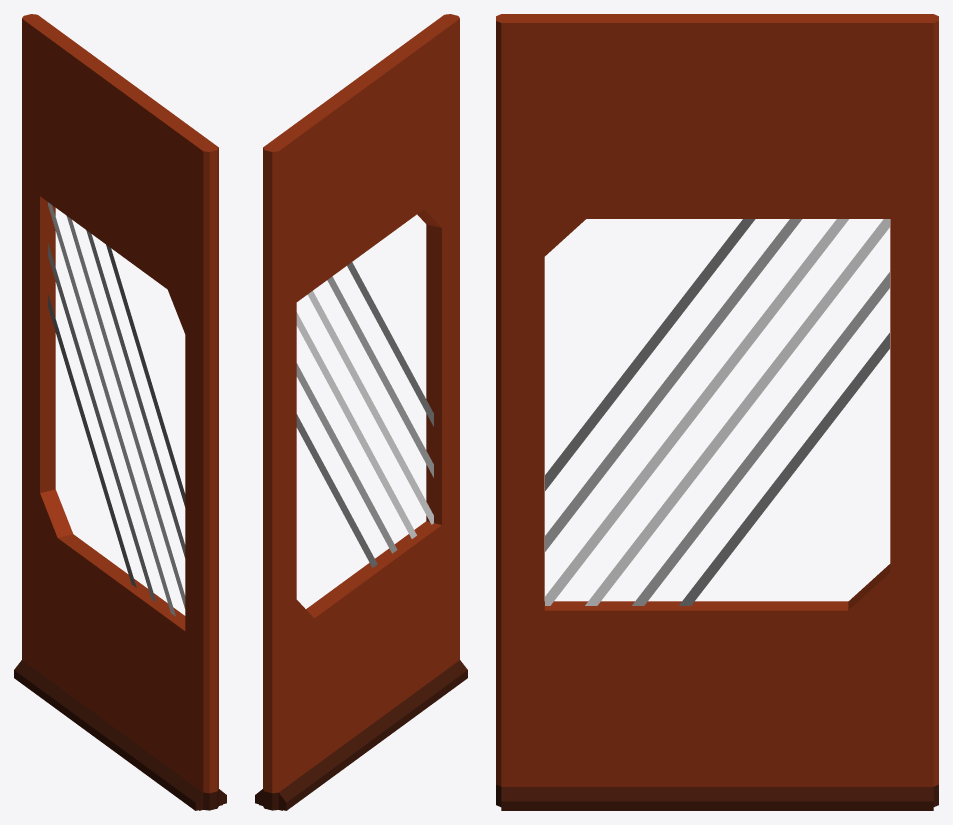
The model's file is Wall_1-5.fbx.
The picture shows the model from 3 angles, left to right: view 1: azimuth 30°, elevation 25°; view 2: azimuth 150°, elevation 25°; view 3: azimuth 270°, elevation 25°; orthographic projection. The views are drawn at different scales.
Visible parts, largest first — view 1: Wall_1-5, Wall_1-5.001; view 2: Wall_1-5, Wall_1-5.001; view 3: Wall_1-5, Wall_1-5.001.
Boxes of the visible parts, x1,y1,x2,y2 form: Wall_1-5: (14,14,226,810); Wall_1-5.001: (48,202,185,616); Wall_1-5: (255,14,467,810); Wall_1-5.001: (296,262,433,567); Wall_1-5: (496,14,938,810); Wall_1-5.001: (545,219,889,605).
Bounding box in the file's own units: 0.4 × 4.1 × 8.01.
